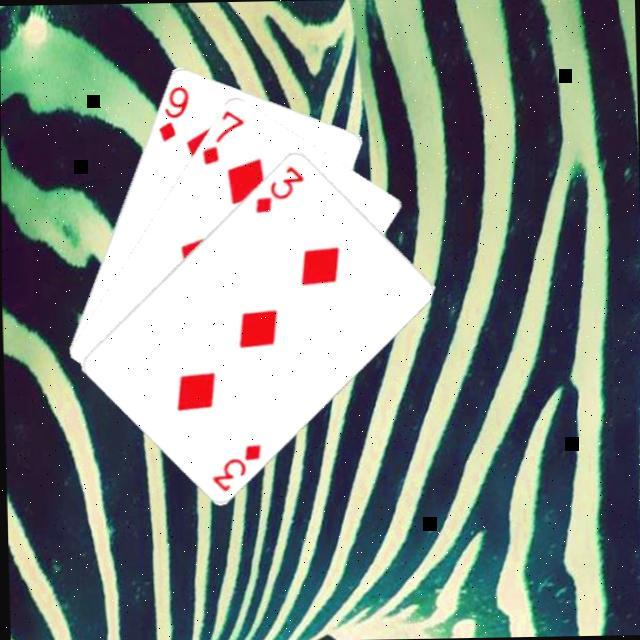3D: (252, 163, 309, 218), (209, 442, 266, 495)
7D: (199, 109, 249, 169)
9D: (156, 83, 193, 146)
